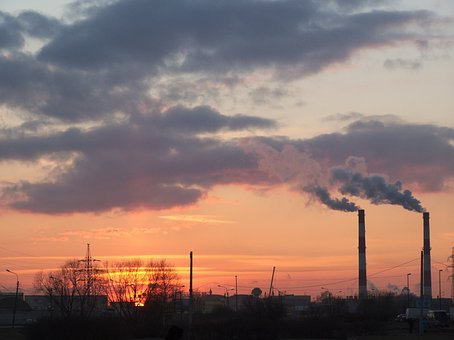dust: (343, 164, 442, 220), (301, 185, 372, 220)
